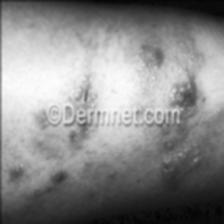Toxin: (134, 40, 200, 106), (157, 140, 203, 188), (66, 68, 100, 102), (28, 174, 70, 198), (66, 122, 94, 146), (29, 106, 46, 142), (1, 155, 23, 181)
